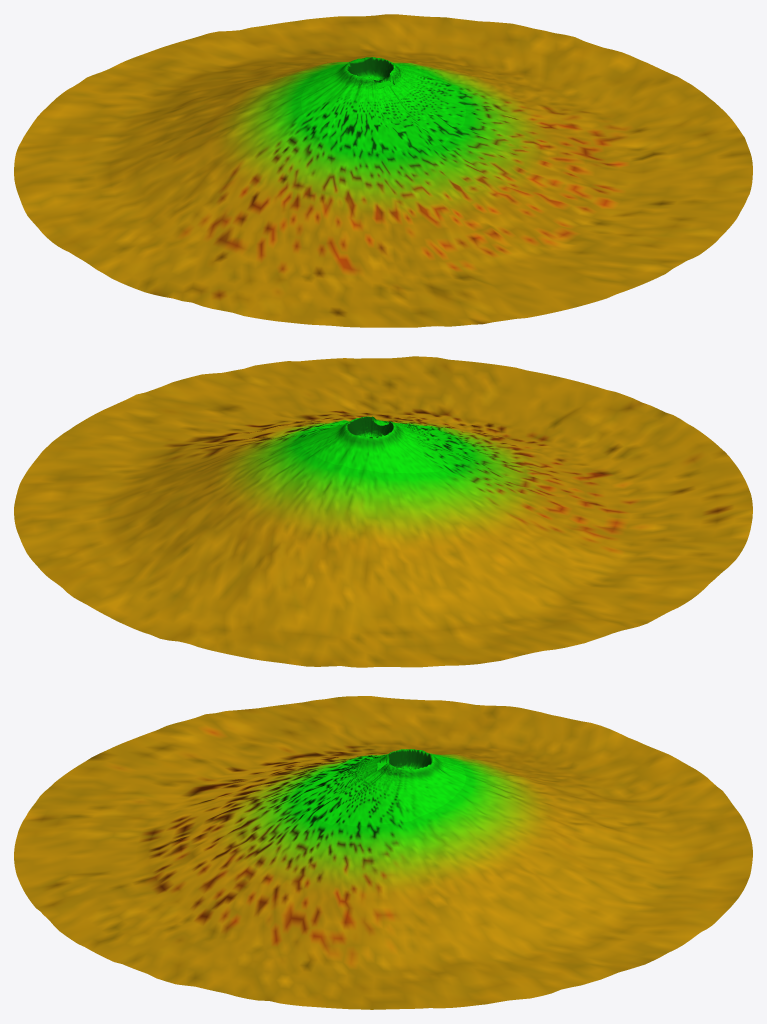
File: crest_ground.glb
The picture shows the model from 3 angles, top to bottom: view 1: azimuth 30°, elevation 25°; view 2: azimuth 150°, elevation 25°; view 3: azimuth 270°, elevation 25°; orthographic projection.
Visible parts, largest first — view 1: crest_ground; view 2: crest_ground; view 3: crest_ground.
Boxes of the visible parts, left/top/right/bottom form: crest_ground: left=14, top=14, right=752, bottom=327; crest_ground: left=14, top=356, right=752, bottom=667; crest_ground: left=14, top=696, right=752, bottom=1009.
Size of what is drawn, in the model's own units: 2200 by 320 by 2200.
